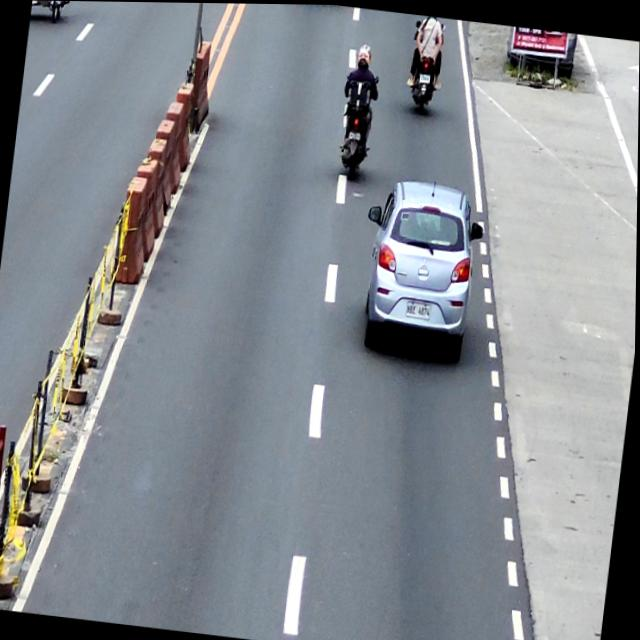Car: (352, 173, 489, 362)
License-Plate: (405, 300, 432, 320), (348, 129, 361, 139), (419, 71, 430, 82)
Motorcycle: (334, 68, 379, 182), (405, 17, 445, 115)
